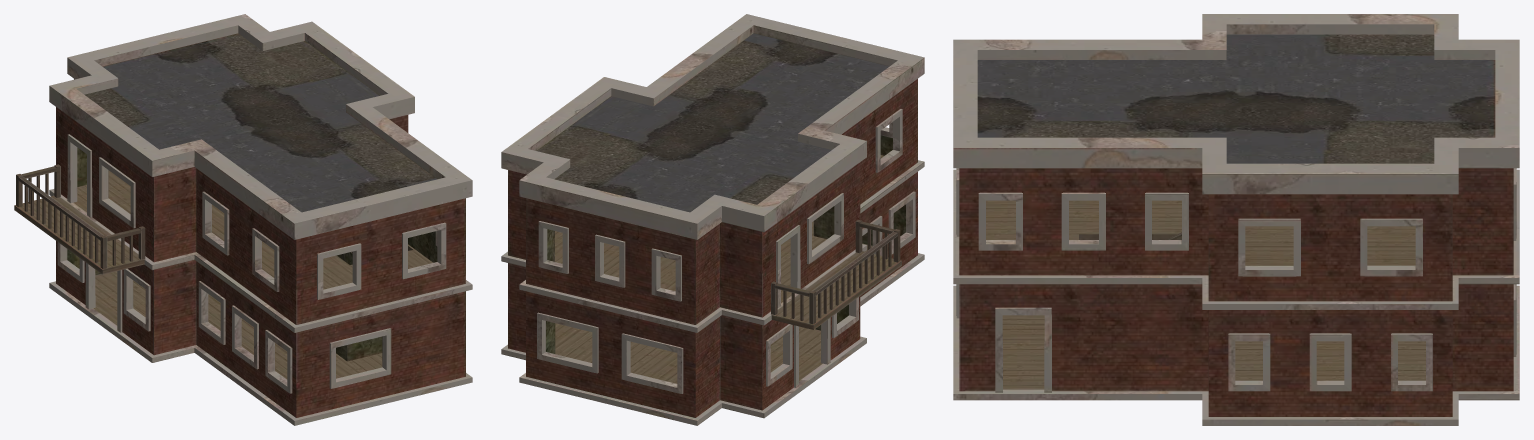
File: textured_building_with_interior.glb
The picture shows the model from 3 angles, left to right: view 1: azimuth 30°, elevation 25°; view 2: azimuth 150°, elevation 25°; view 3: azimuth 270°, elevation 25°; orthographic projection. The views are drawn at different scales.
Parts seen in each view (by area): view 1: building.001_Material_0; view 2: building.001_Material_0; view 3: building.001_Material_0.
Part boxes in pixels (x1=…): building.001_Material_0: x1=14, y1=14, x2=472, y2=425; building.001_Material_0: x1=501, y1=14, x2=924, y2=425; building.001_Material_0: x1=953, y1=14, x2=1519, y2=425.
Size of the model in its own units: 11.32 by 7.17 by 14.6.
1 material, 1 textured.
